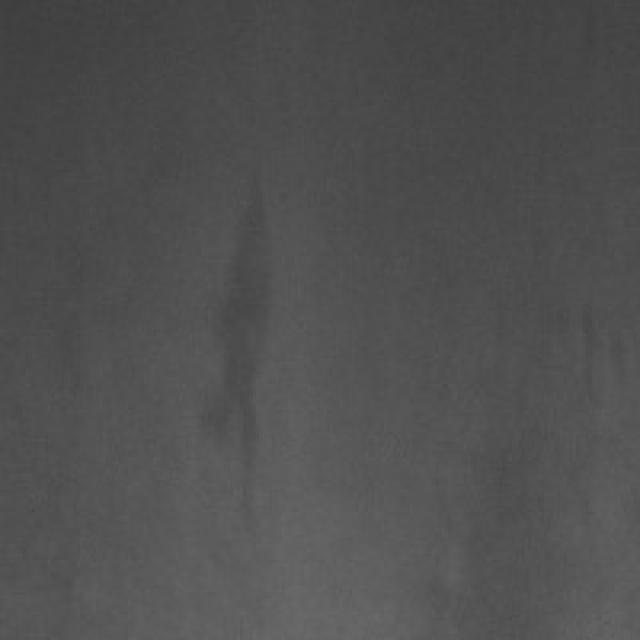inclusion: (176, 170, 298, 531)
